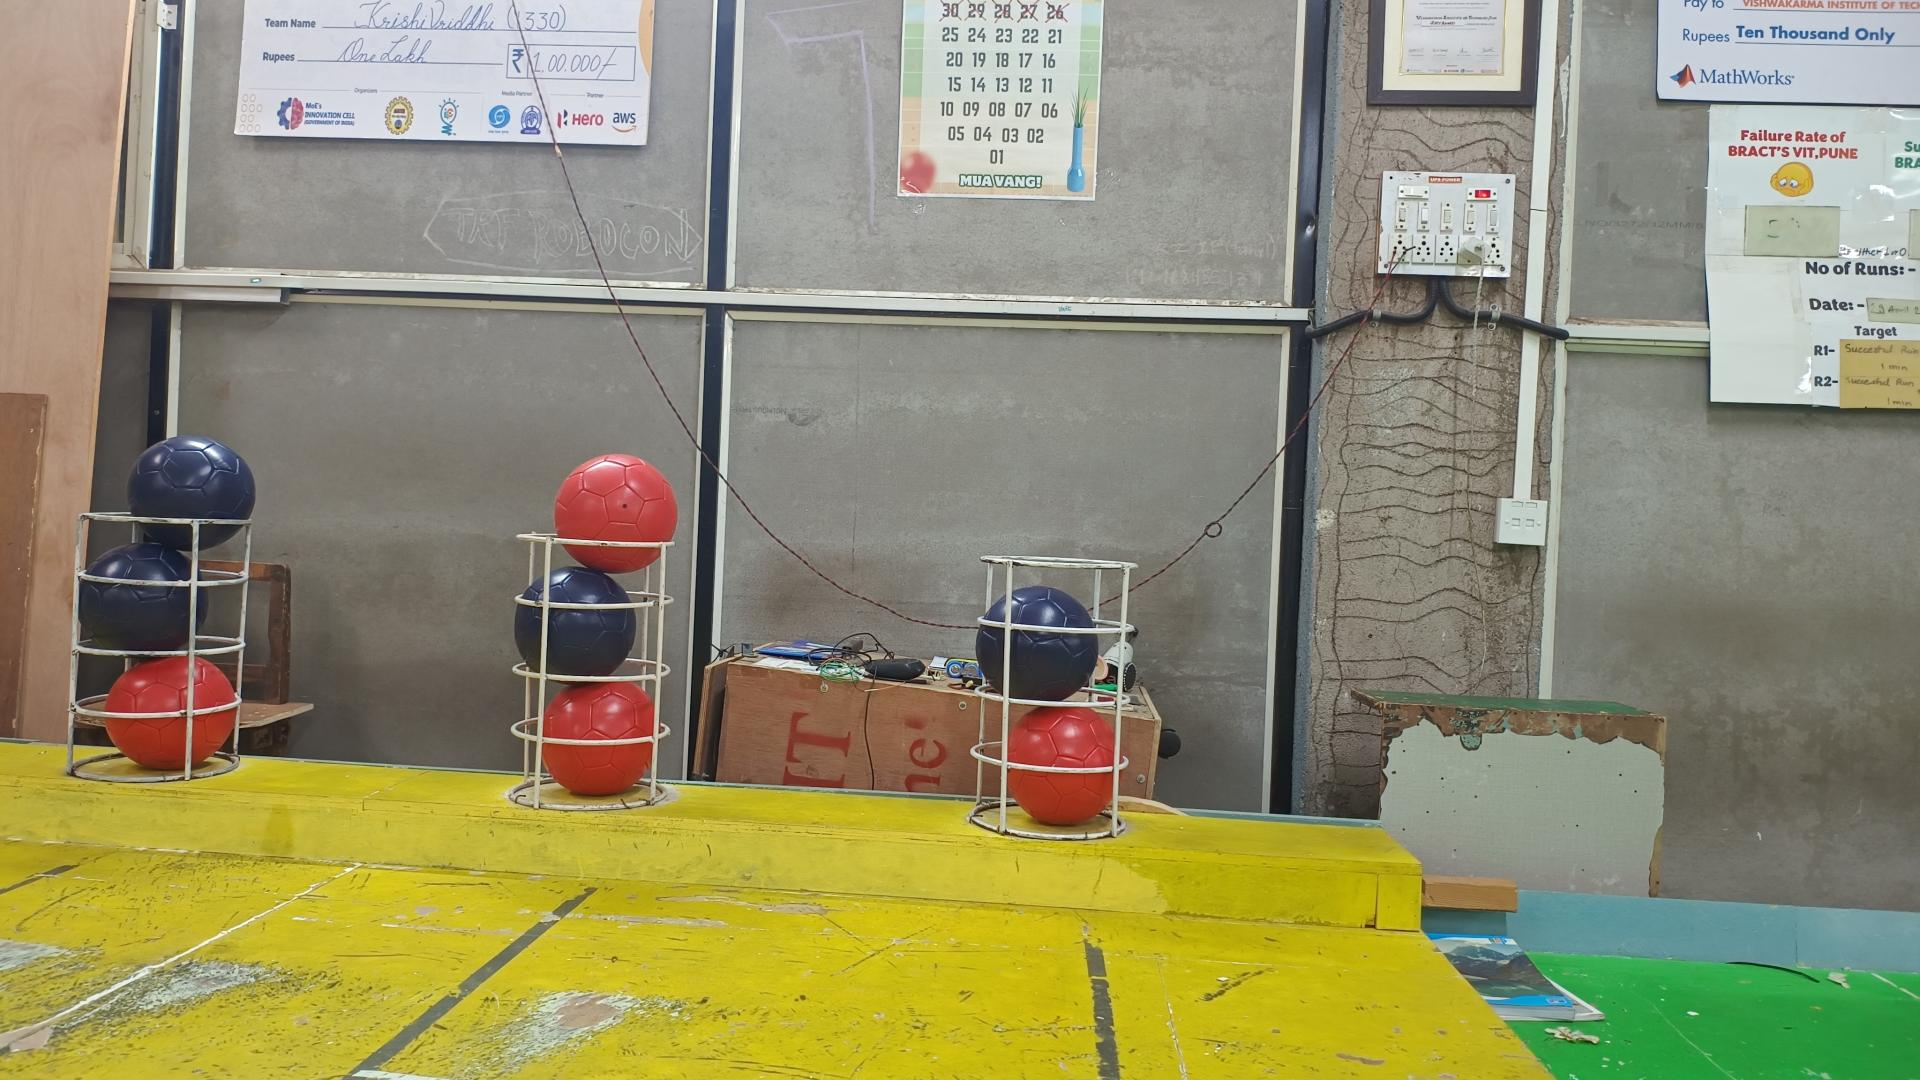dhoka: (127, 435, 255, 551), (73, 545, 204, 653), (976, 585, 1098, 702), (514, 567, 638, 679)
laale: (103, 655, 237, 771), (555, 458, 679, 574), (1009, 708, 1125, 824), (542, 680, 658, 794)
